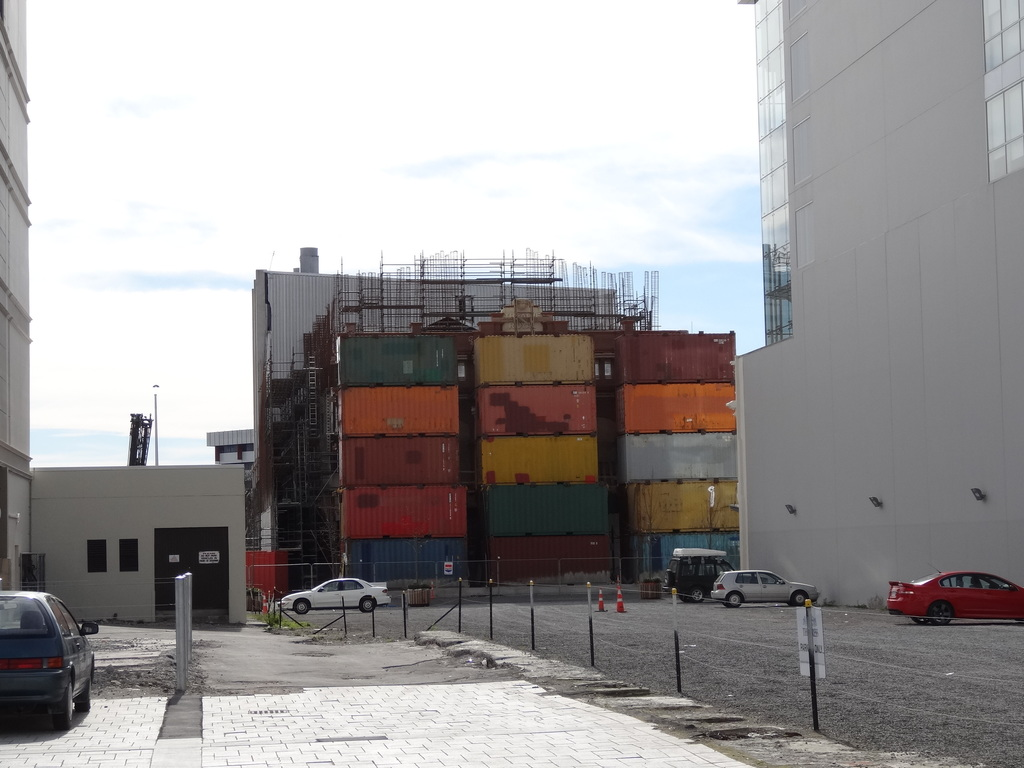Car: (0, 584, 99, 723), (887, 567, 1023, 624), (709, 568, 822, 605), (280, 577, 389, 612)
